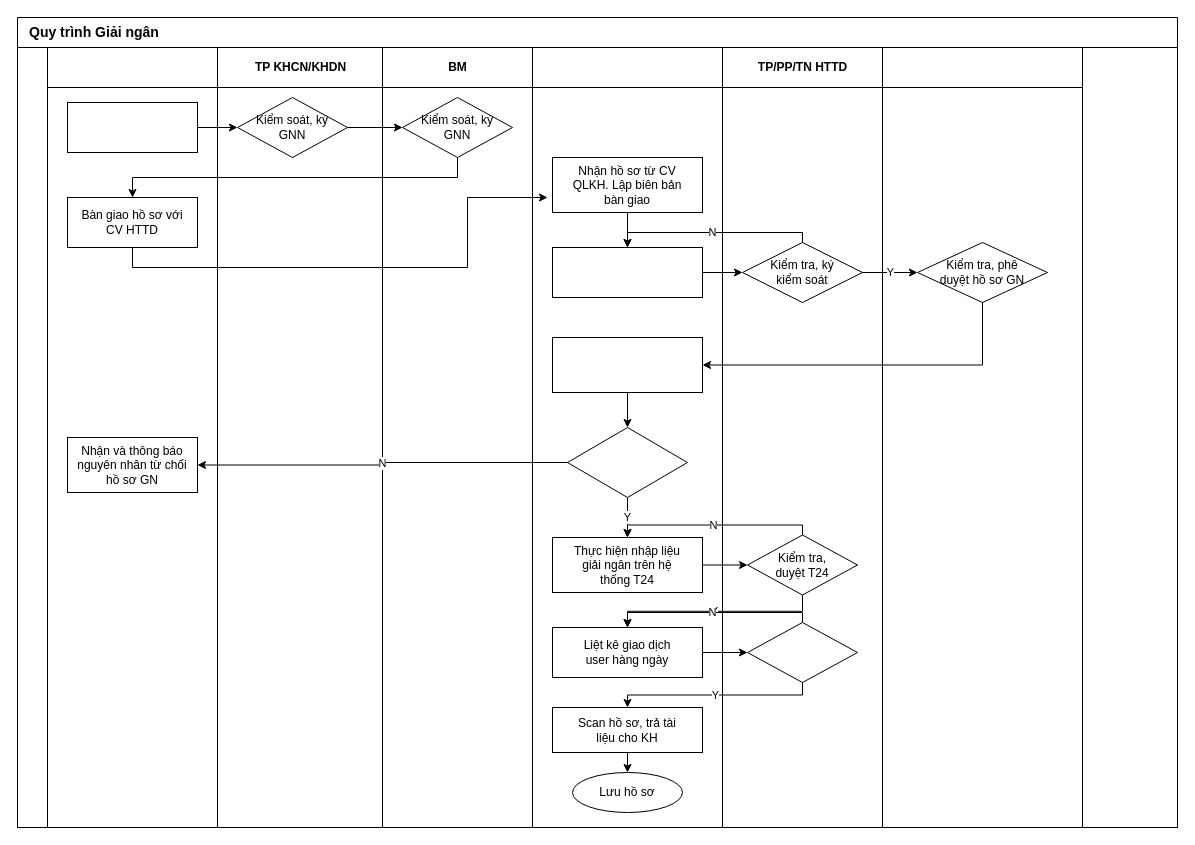
This 1195x845 diagram has some shape labels left out. Here are the shapes that lost their labels. From the top down, the box of each, then its label:
(66, 102, 198, 152): Tập hợp hồ sơ, hoàn thiện GNN
(552, 246, 702, 298): Lập Báo cáo kiểm soát giải ngân
(552, 336, 702, 392): Nhận HSGN và Báo cáo kiểm soát GN đã được phê duyệt
(46, 46, 218, 828): RM
(532, 46, 722, 828): CV HTTD
(882, 46, 1082, 828): PGĐ Vận hành
(566, 426, 688, 498): PGDVH đồng ý GN
(746, 622, 858, 682): Kiểm tra, ký
